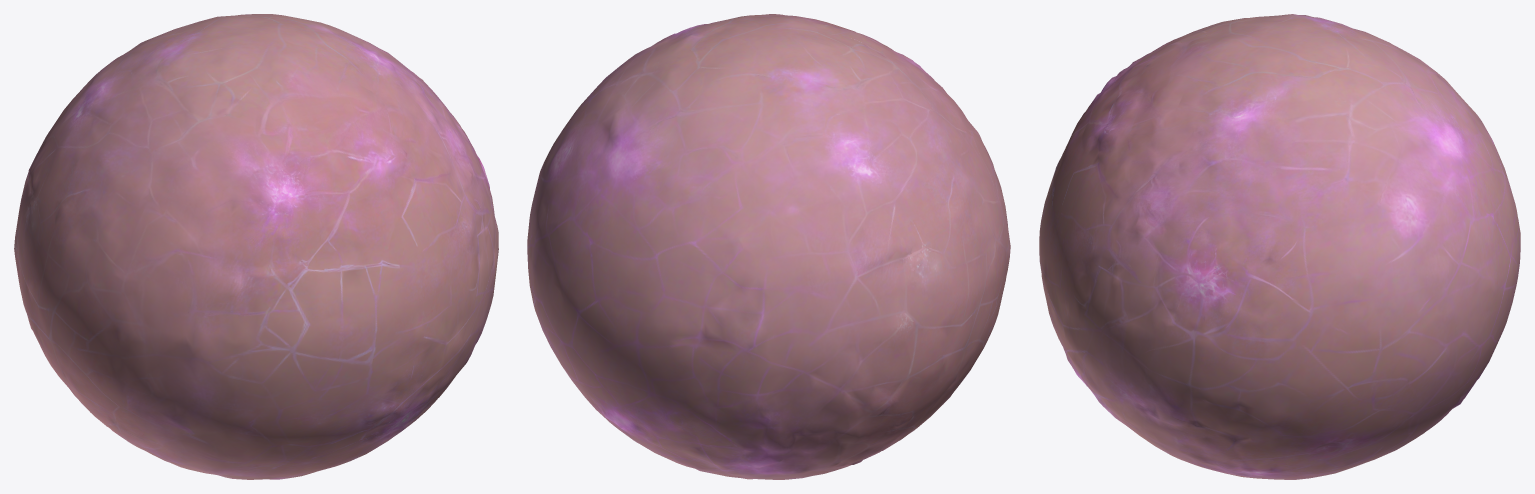
File: Model_Plasma.fbx
3 views of the same model, side by side, from view 1: azimuth 30°, elevation 25°; view 2: azimuth 150°, elevation 25°; view 3: azimuth 270°, elevation 25° (orthographic).
Visible parts, largest first — view 1: input; view 2: input; view 3: input.
Part boxes in pixels (box(x1,y1,x2,y2)): input: box(14, 14, 498, 479); input: box(527, 14, 1010, 479); input: box(1039, 14, 1520, 479).
Bounding box in the file's own units: 200 × 193 × 200.
1 material, 1 textured.
